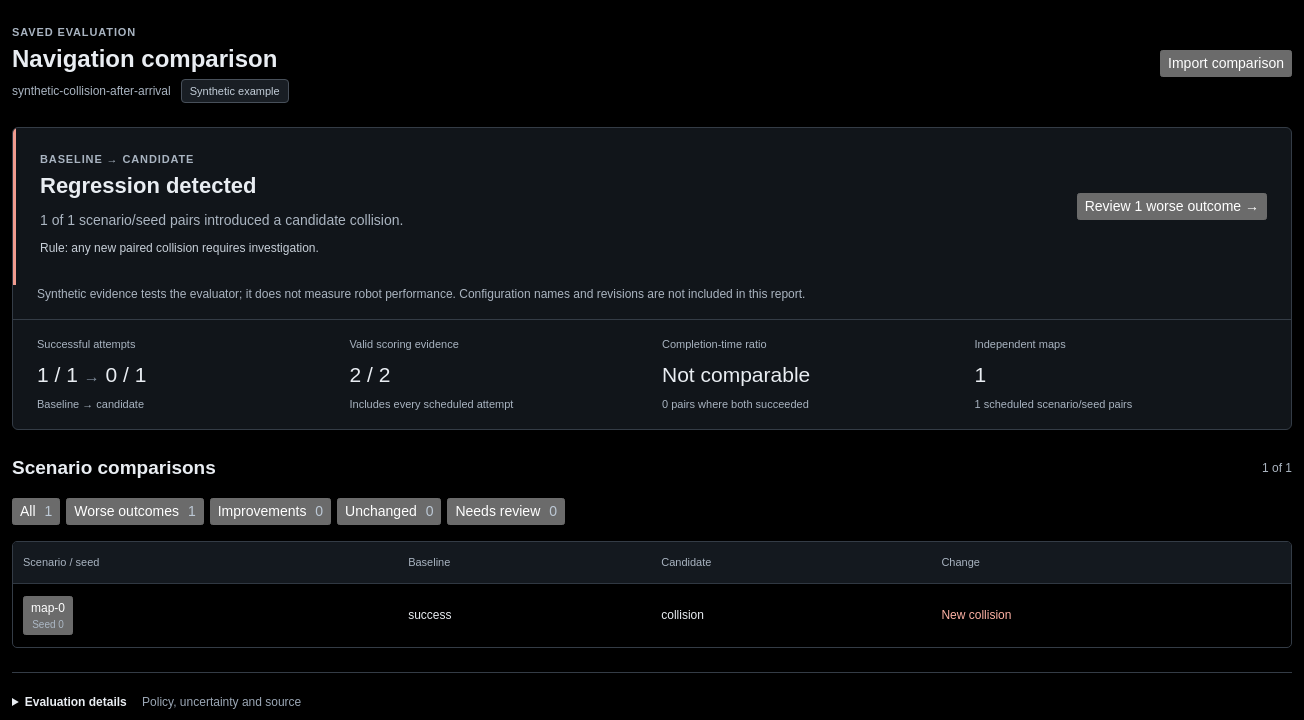
Test: navigation comparisons › labels synthetic evidence and exposes collision details
Expected: the text "Synthetic example" is shown, [181,78,289,103]
Expected: the heading "Regression detected" is shown, [40,173,256,198]
Click the button "Review 1 worse outcome →".
click(1172, 206)  # box [1077,193,1267,220]
(page scrolled)
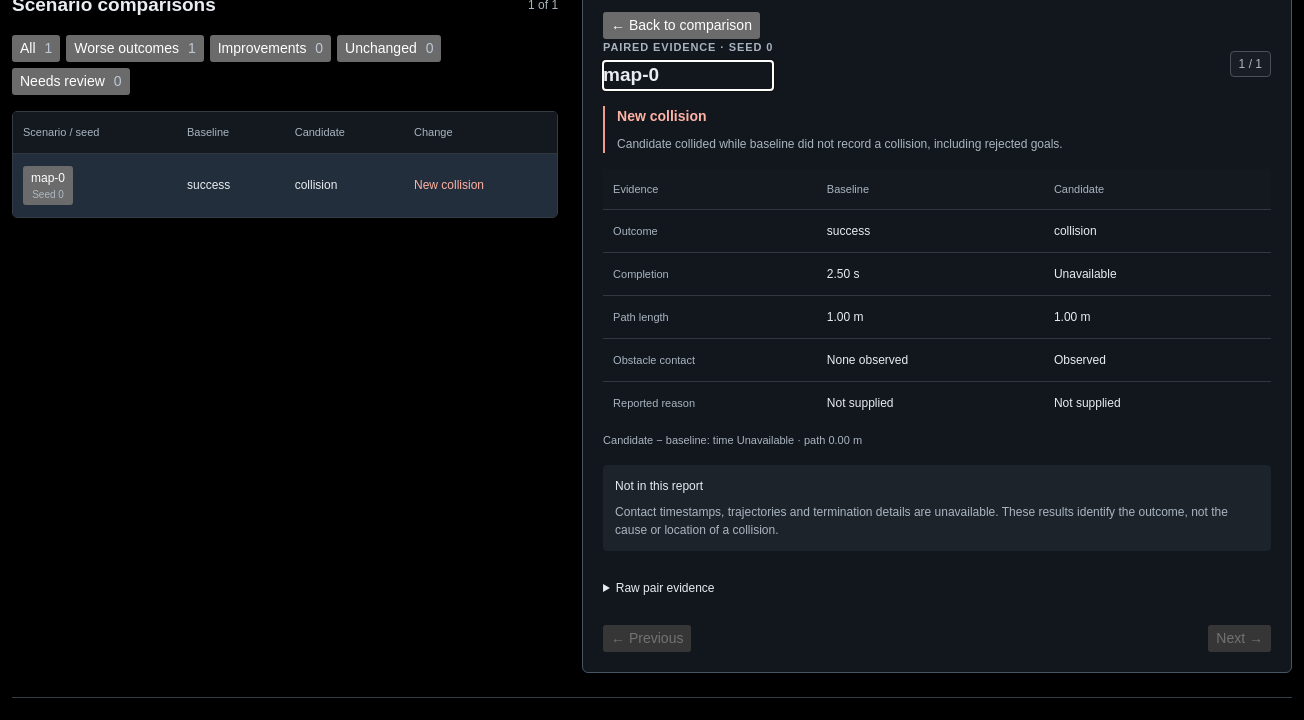
Now the text "Observed" is shown, box [1044,338,1271,382]
